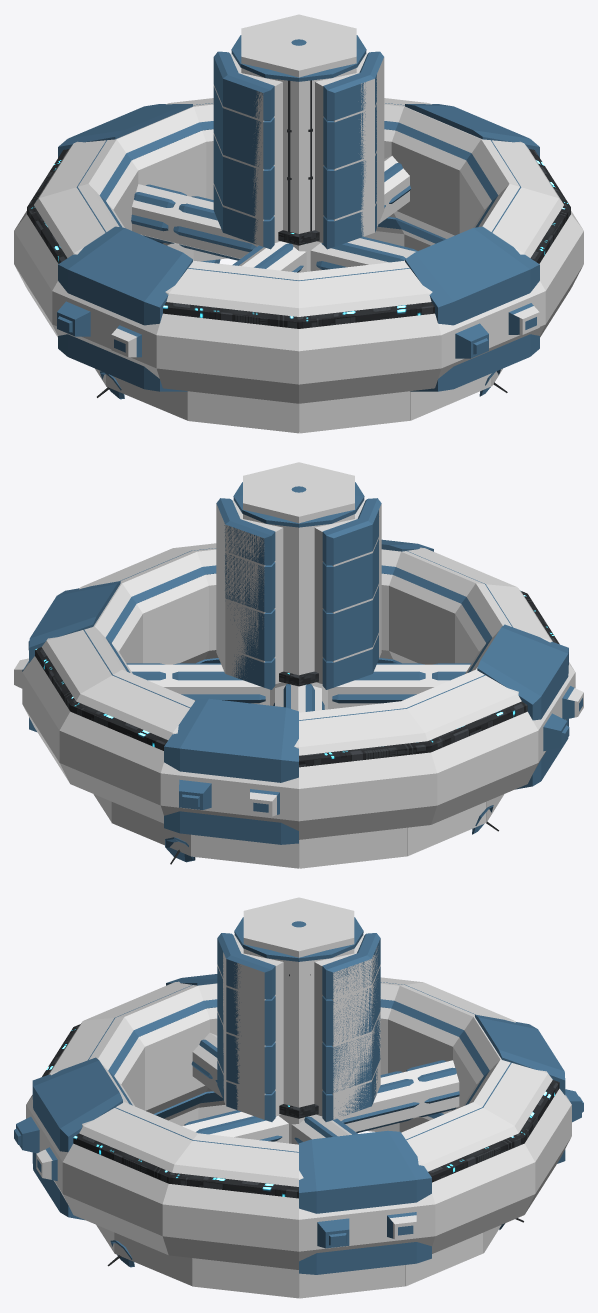
The model's file is SM_Ship_Station_04.fbx.
3 renders of one model, top to bottom at view 1: azimuth 30°, elevation 25°; view 2: azimuth 150°, elevation 25°; view 3: azimuth 270°, elevation 25°, orthographic. The views are drawn at different scales.
Parts seen in each view (by area): view 1: SM_Ship_Station_04_ConvexHulls, SM_Ship_Station_04_LOD0; view 2: SM_Ship_Station_04_ConvexHulls, SM_Ship_Station_04_LOD0; view 3: SM_Ship_Station_04_ConvexHulls, SM_Ship_Station_04_LOD0.
Boxes of the visible parts, bbox=[...] form: SM_Ship_Station_04_ConvexHulls: bbox=[14, 14, 583, 433]; SM_Ship_Station_04_LOD0: bbox=[27, 35, 570, 399]; SM_Ship_Station_04_ConvexHulls: bbox=[14, 462, 583, 868]; SM_Ship_Station_04_LOD0: bbox=[22, 482, 582, 864]; SM_Ship_Station_04_ConvexHulls: bbox=[26, 897, 571, 1298]; SM_Ship_Station_04_LOD0: bbox=[14, 917, 583, 1274].
Size of the model in its own units: 25759 by 25759 by 14854.
Materials: 1 (1 with a texture image).
